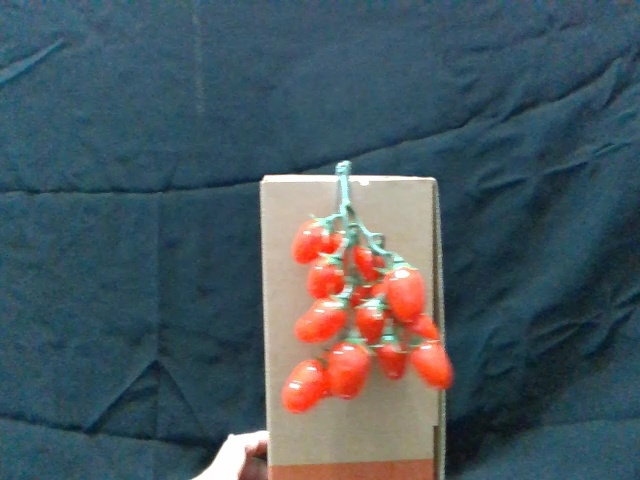tomato: (384, 260, 434, 322), (403, 335, 455, 387), (300, 292, 352, 342), (281, 360, 329, 414), (332, 337, 372, 400), (374, 327, 410, 383), (294, 217, 336, 263), (353, 293, 388, 343), (311, 253, 347, 300)
